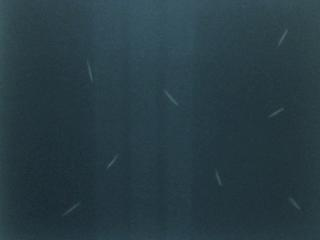scratch: (81, 56, 99, 86), (159, 87, 182, 108), (59, 196, 83, 216), (274, 26, 291, 51), (101, 150, 120, 171), (283, 192, 302, 213), (264, 104, 284, 119), (213, 167, 224, 188)
